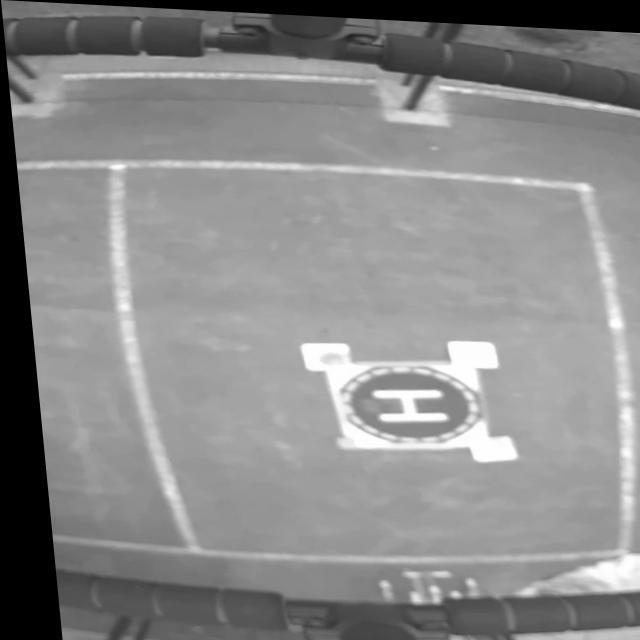Helipad: (363, 385, 440, 419)
